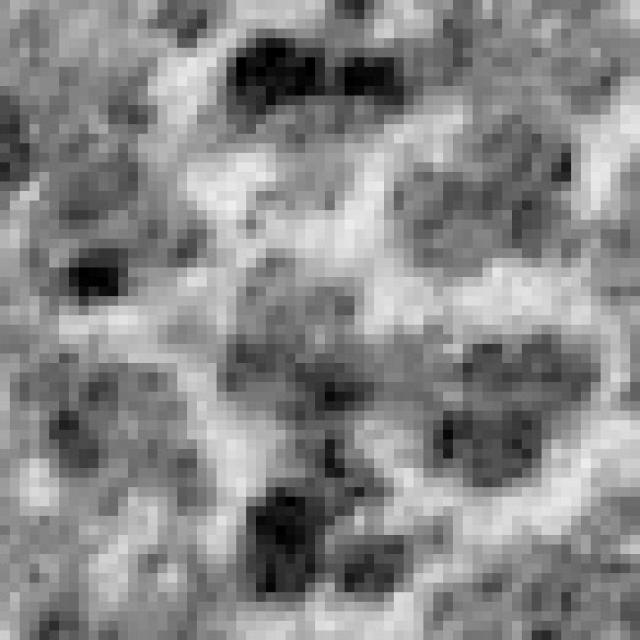inner: (177, 241, 474, 436)
lobe: (208, 33, 415, 227), (6, 353, 228, 524), (230, 437, 446, 609), (412, 328, 610, 502), (24, 132, 215, 305), (384, 116, 580, 280)
outer: (0, 0, 640, 640)
